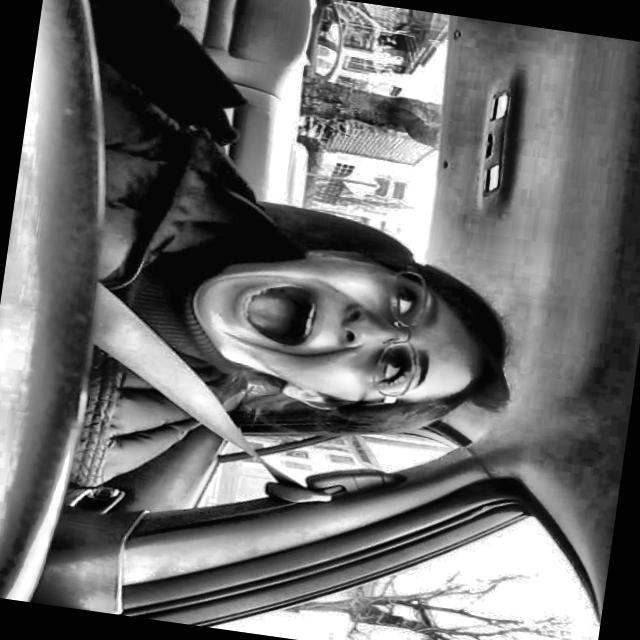open_eyes: (384, 275, 424, 333), (373, 341, 418, 392)
open_mouth: (220, 273, 332, 357)
